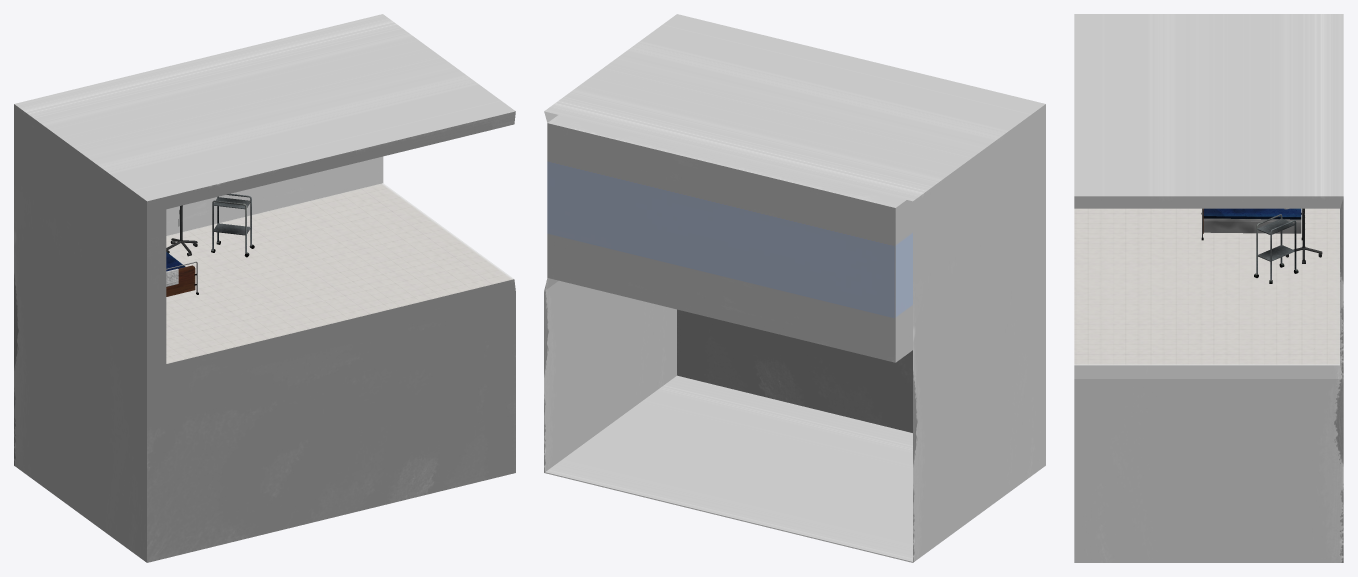
The model's file is Chambre hopital.FBX.
3 renders of one model, left to right at view 1: azimuth 30°, elevation 25°; view 2: azimuth 150°, elevation 25°; view 3: azimuth 270°, elevation 25°, orthographic.
Visible parts, largest first — view 1: Box002, Box001 (×2); view 2: Box002; view 3: Box002, Box001 (×2).
Part boxes in pixels (x1,y1,x2,y2): Box002: (14, 14, 515, 562); Box001 (×2): (166, 193, 254, 296); Box002: (544, 14, 1045, 562); Box002: (1074, 14, 1343, 562); Box001 (×2): (1201, 208, 1302, 283).
Bounding box in the file's own units: 7.48 × 7.01 × 4.67.
